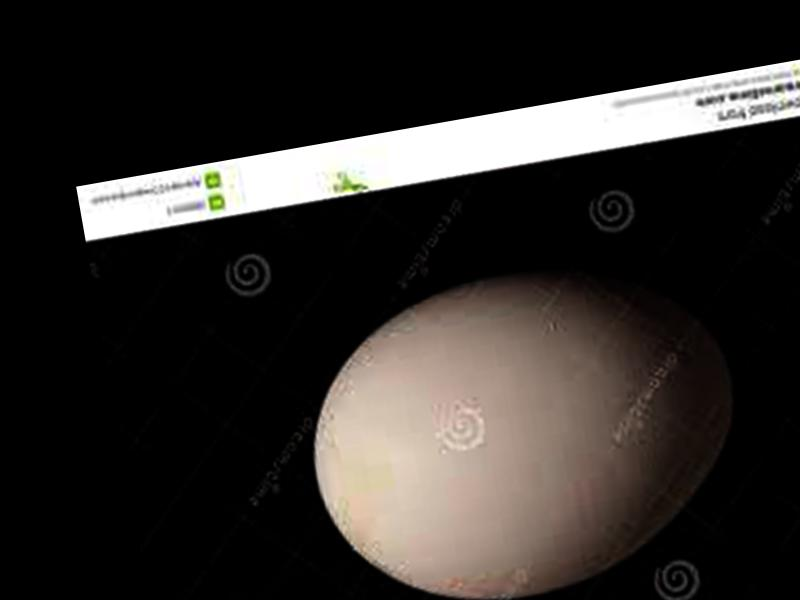Eggs: (283, 239, 763, 600)
